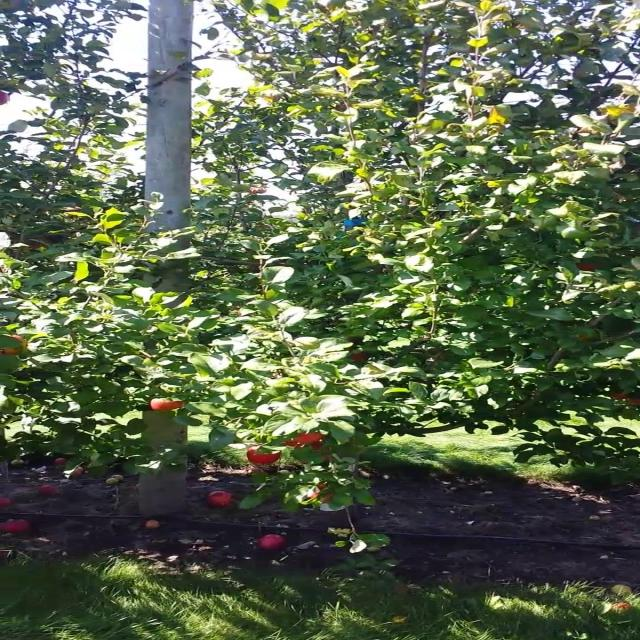apple: (248, 448, 284, 465), (291, 432, 325, 447), (284, 436, 324, 448), (148, 400, 185, 412), (6, 336, 28, 356), (312, 484, 334, 504), (312, 444, 334, 461), (355, 352, 370, 364), (611, 392, 631, 400), (248, 188, 268, 196), (582, 264, 597, 272), (625, 400, 639, 406), (632, 400, 639, 405)
